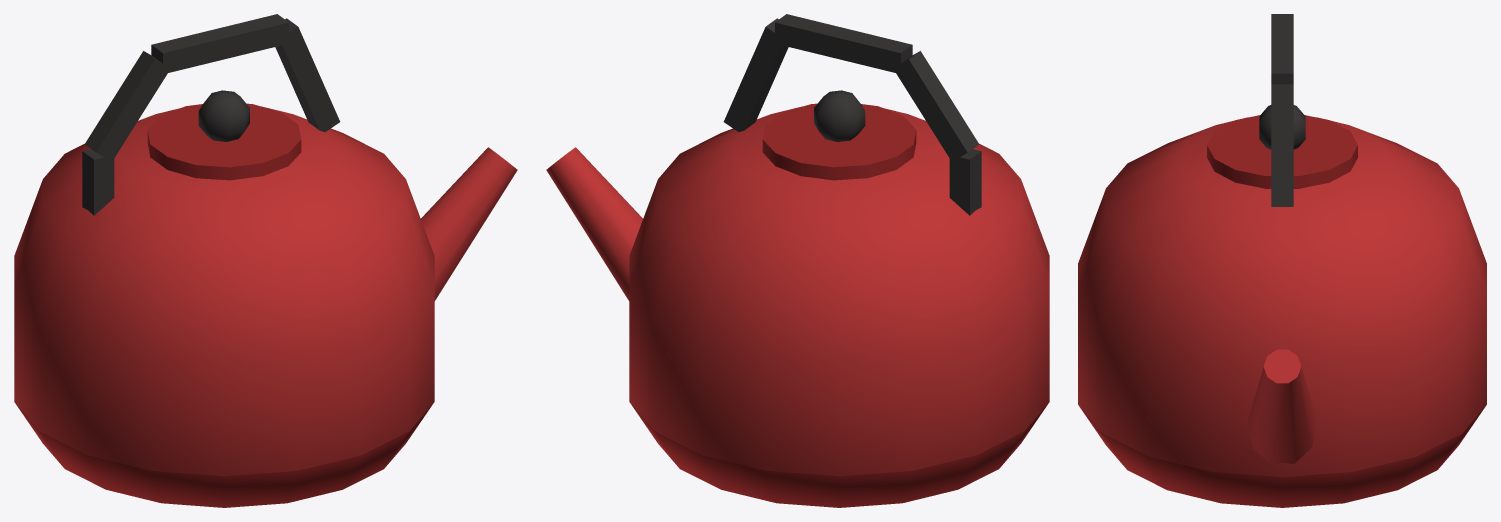
The model's file is kitchen-deco2.glb.
3 renders of one model, left to right at view 1: azimuth 30°, elevation 25°; view 2: azimuth 150°, elevation 25°; view 3: azimuth 270°, elevation 25°, orthographic. The views are drawn at different scales.
Parts seen in each view (by area): view 1: kitchen-deco2; view 2: kitchen-deco2; view 3: kitchen-deco2.
Part boxes in pixels (bbox=[...]): kitchen-deco2: bbox=[14, 14, 517, 507]; kitchen-deco2: bbox=[546, 14, 1049, 507]; kitchen-deco2: bbox=[1078, 14, 1486, 507].
Bounding box in the file's own units: 2.82 × 2.26 × 2.17.
